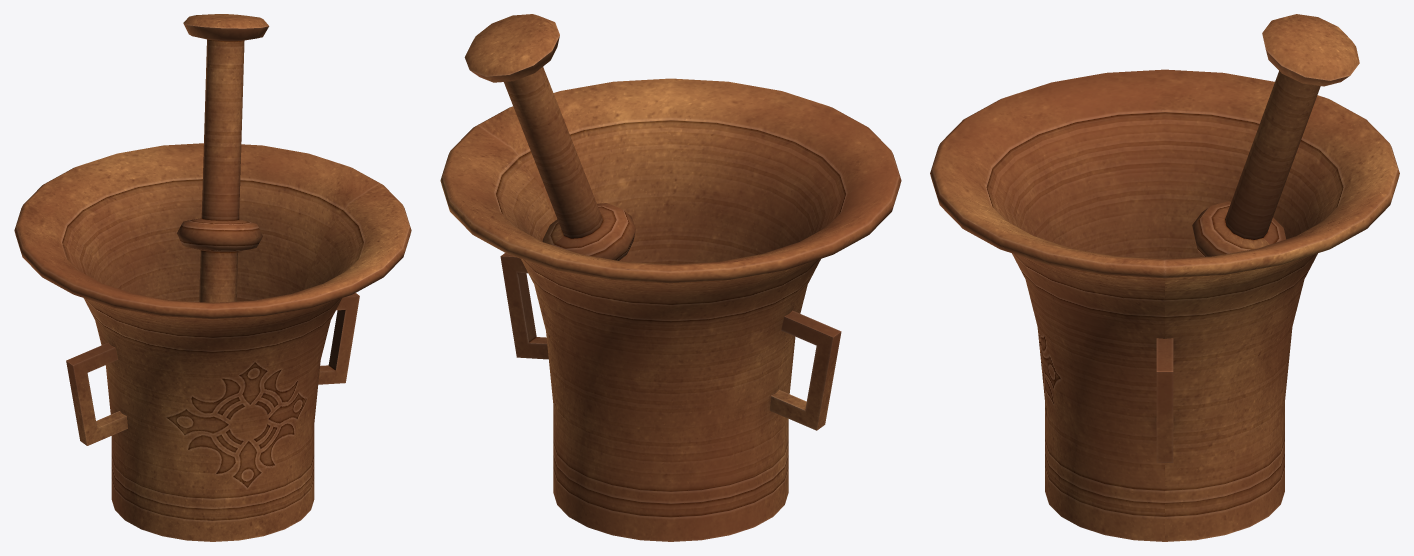
Rendered from DS_WizLab_Clut_MortarAndPestal.fbx.
The picture shows the model from 3 angles, left to right: view 1: azimuth 30°, elevation 25°; view 2: azimuth 150°, elevation 25°; view 3: azimuth 270°, elevation 25°; orthographic projection. The views are drawn at different scales.
Parts seen in each view (by area): view 1: DS_WizLab_Clut_MortarAndPestal; view 2: DS_WizLab_Clut_MortarAndPestal; view 3: DS_WizLab_Clut_MortarAndPestal.
Boxes of the visible parts, left/top/right/bottom form: DS_WizLab_Clut_MortarAndPestal: left=14, top=14, right=411, bottom=541; DS_WizLab_Clut_MortarAndPestal: left=440, top=14, right=901, bottom=541; DS_WizLab_Clut_MortarAndPestal: left=930, top=14, right=1399, bottom=541.
Bounding box in the file's own units: 55.58 × 66.12 × 55.58.
1 material, 1 textured.
